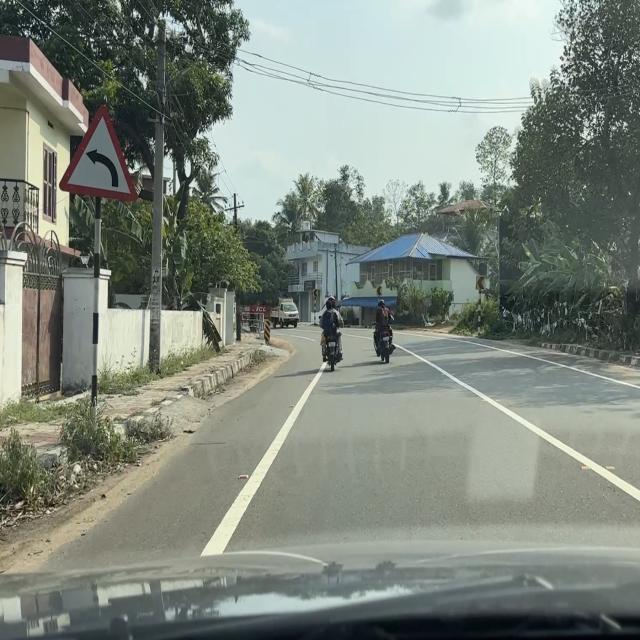LEFT_TURN_AHEAD: (58, 104, 139, 203)
TURN_LEFT: (476, 276, 485, 290)
